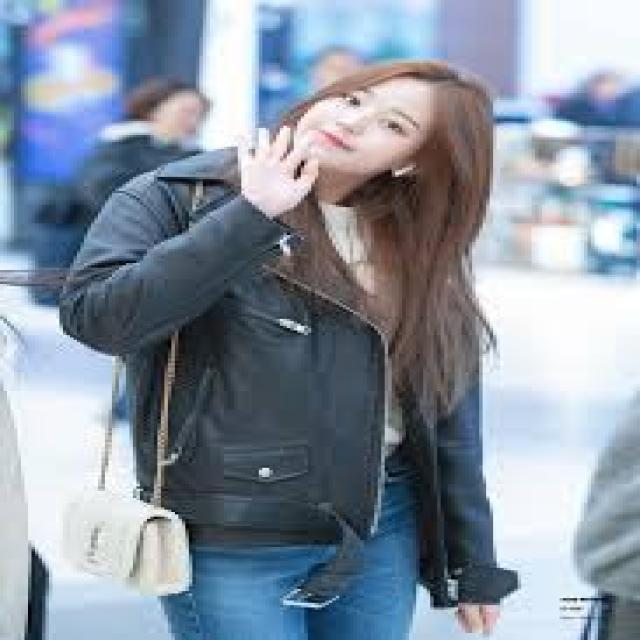earphone: (388, 147, 438, 200)
